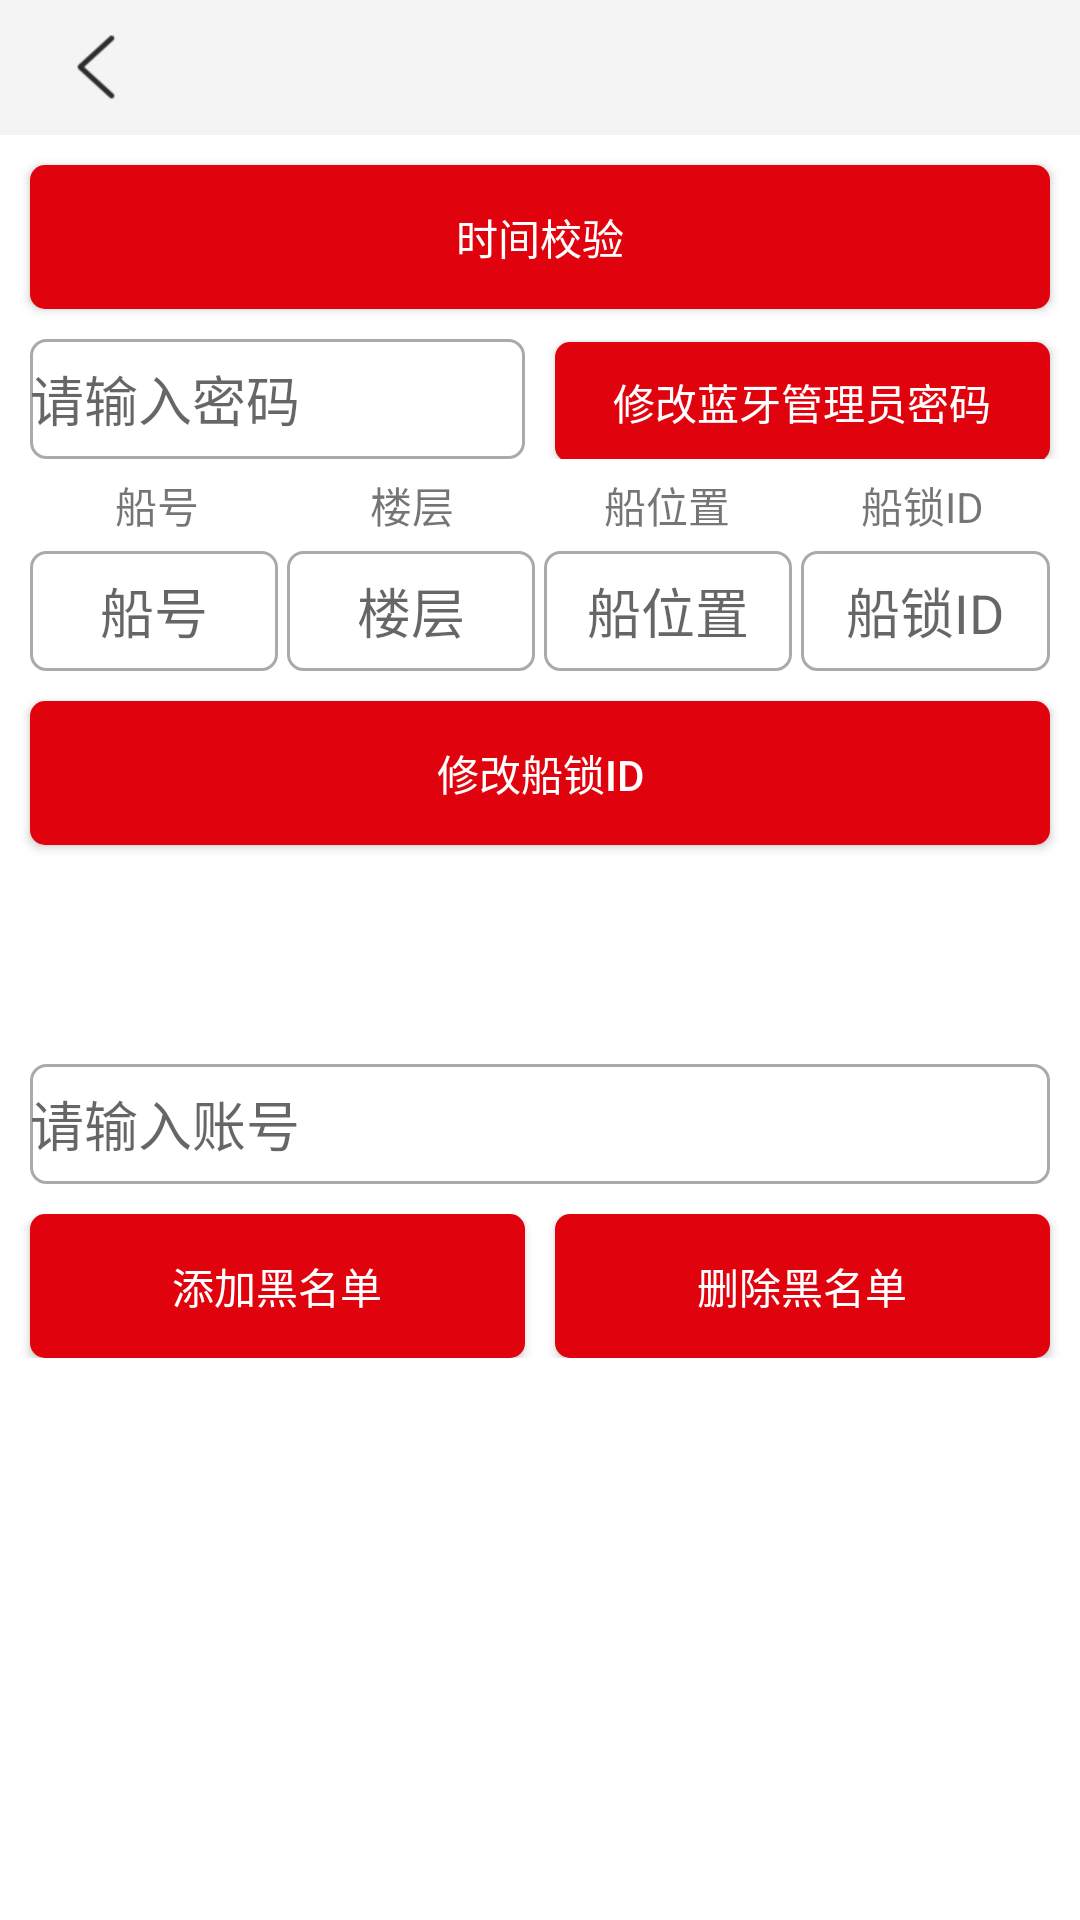

Locate icon controls on the screen. Image size 1080px×1920px, boxes as bbox=(x1, y1, x2, y2).
back: bbox=(77, 35, 115, 99)
